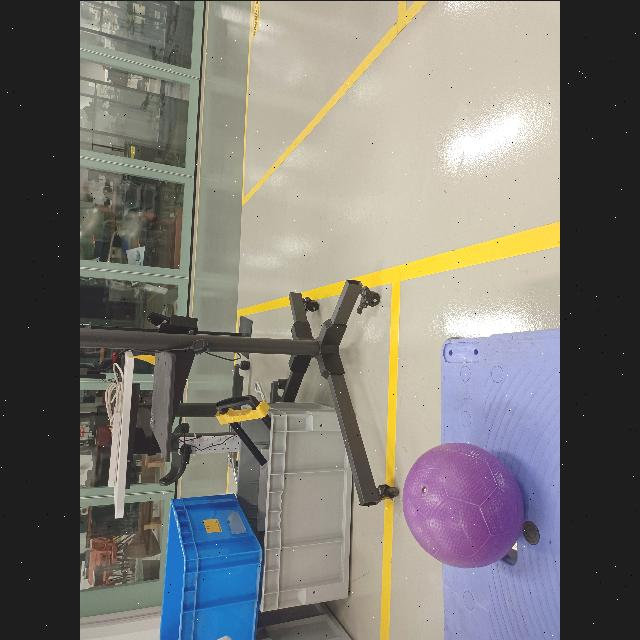P: (400, 436, 530, 572)
